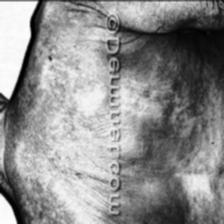Potentially Malignant Skin Tumors: (118, 68, 204, 139)
